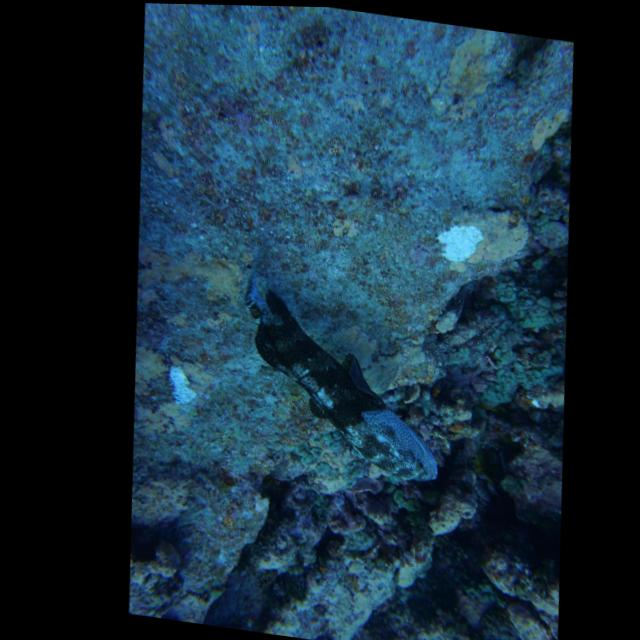Groupers: (219, 267, 462, 483)
